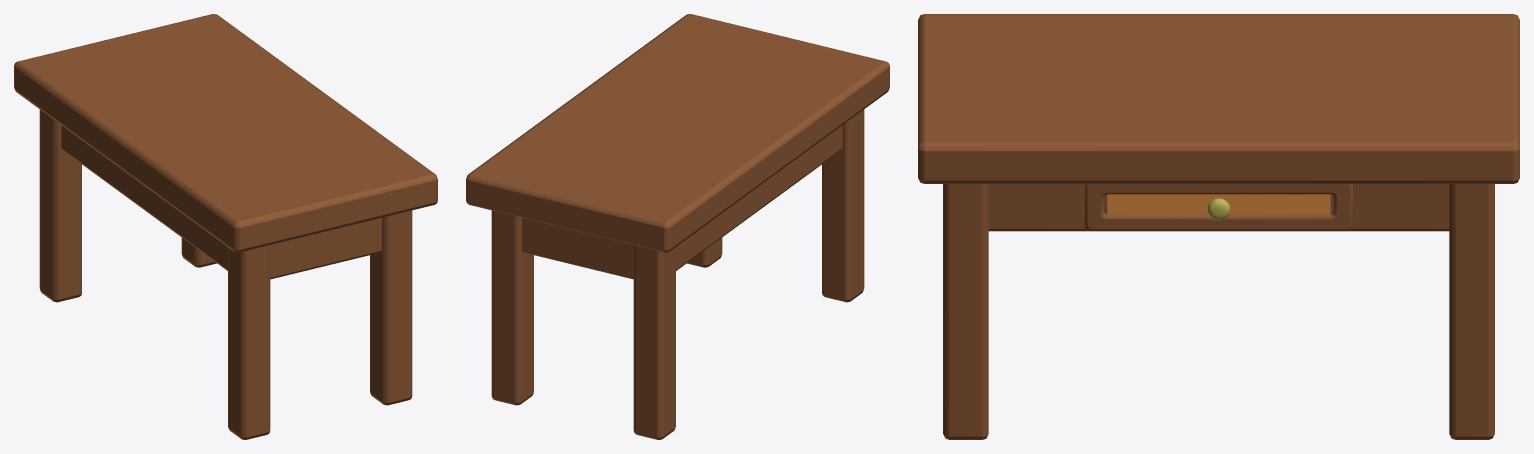
Rendered from Table2.glb.
3 renders of one model, left to right at view 1: azimuth 30°, elevation 25°; view 2: azimuth 150°, elevation 25°; view 3: azimuth 270°, elevation 25°, orthographic. The views are drawn at different scales.
Visible parts, largest first — view 1: Table; view 2: Table; view 3: Table, Table_box.
Part boxes in pixels (box(x1,y1,x2,y2)): Table: box(14, 14, 437, 439); Table: box(466, 14, 889, 439); Table: box(918, 14, 1519, 439); Table_box: box(1085, 184, 1352, 230).
Bounding box in the file's own units: 0.8367 × 0.8976 × 1.59.
